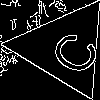C: (39, 23, 100, 79)
